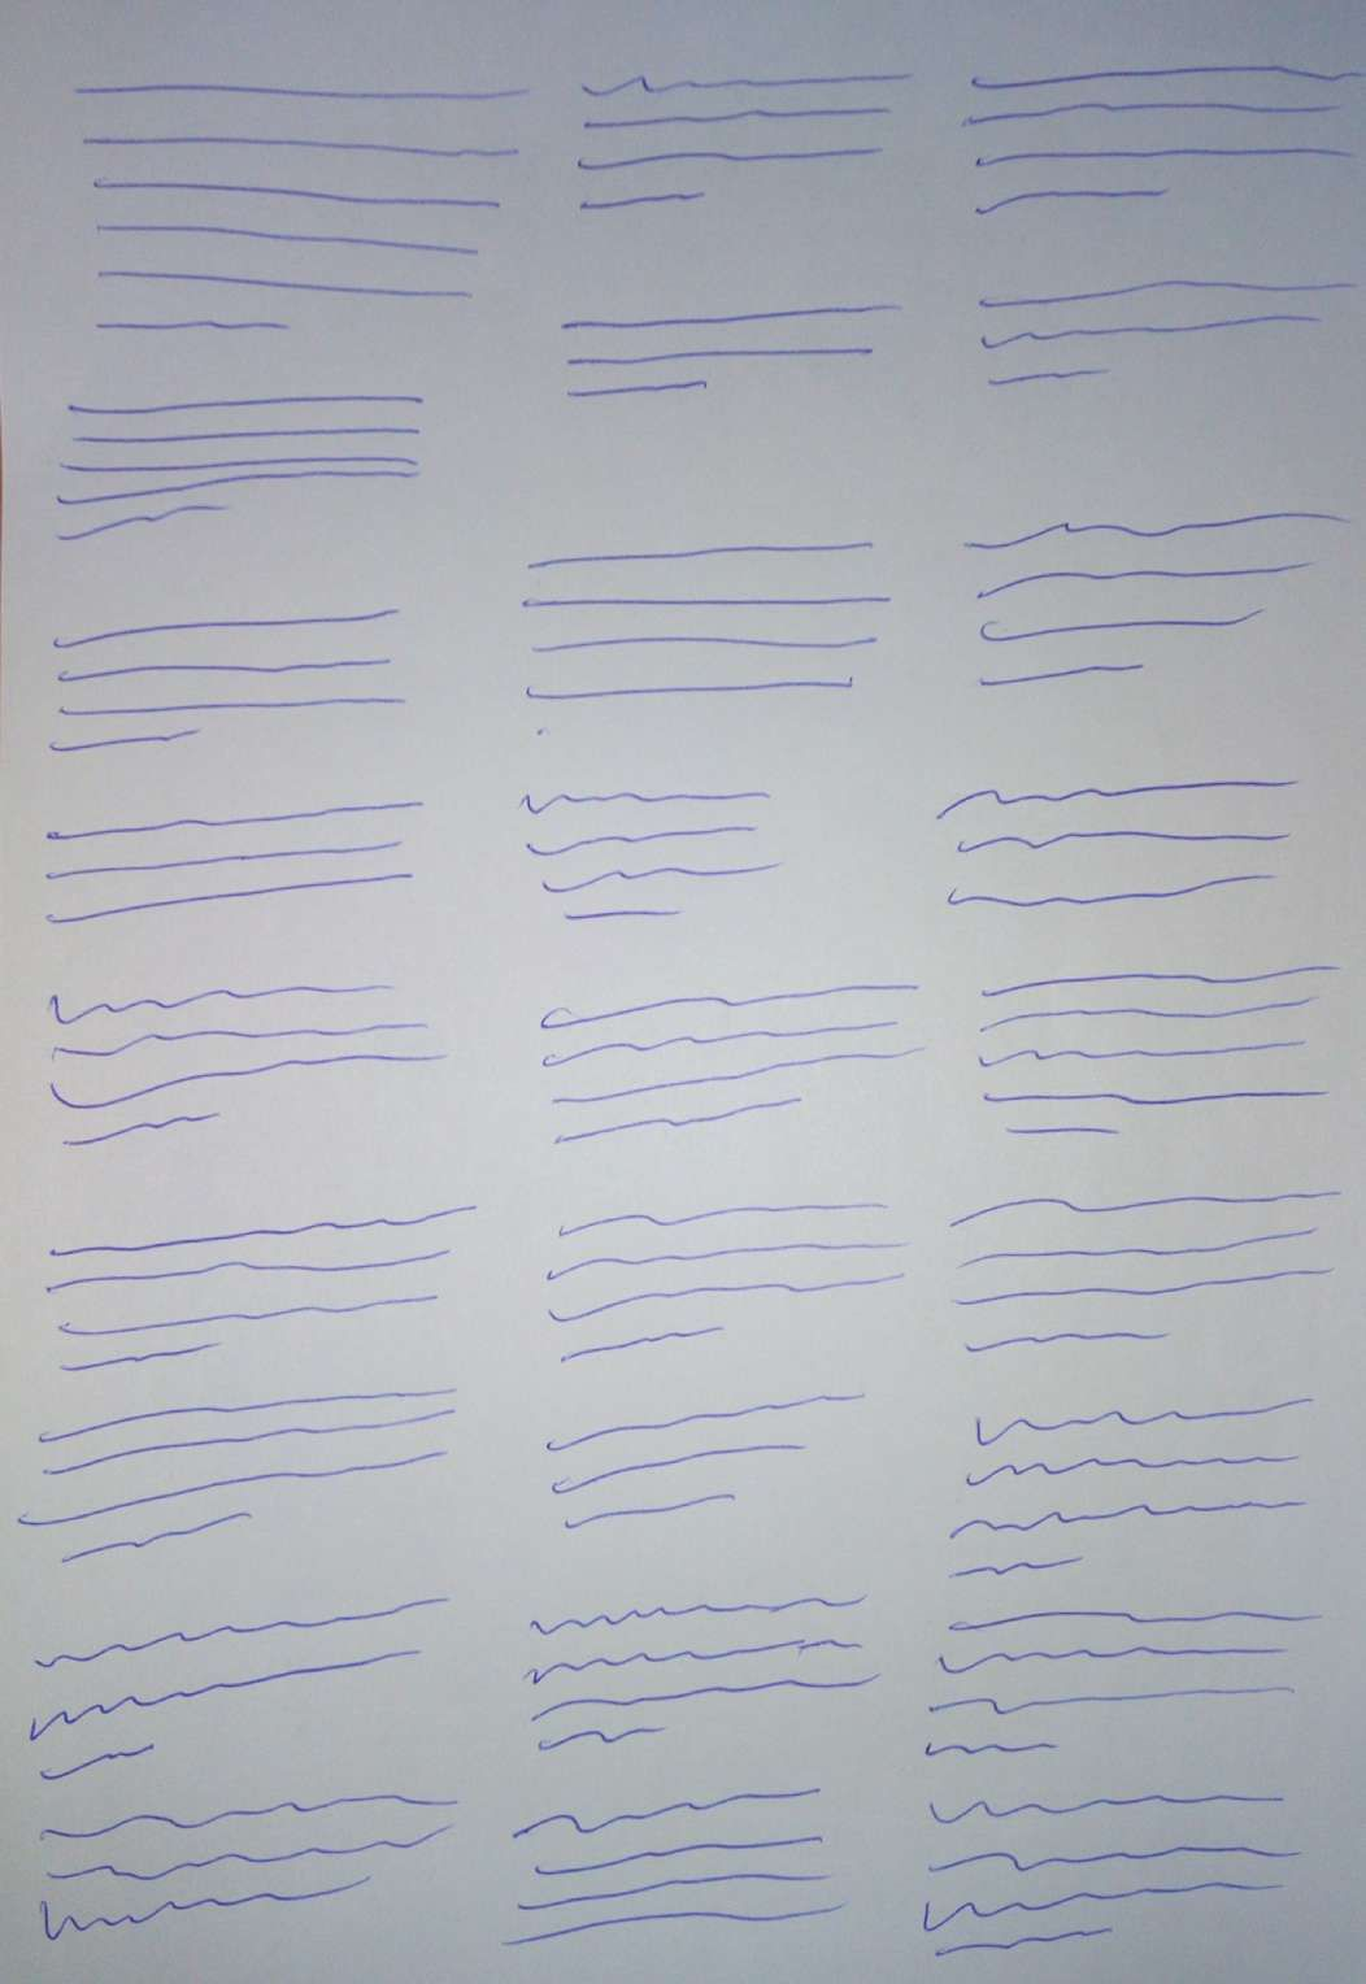Paragraph: (69, 80, 537, 333), (14, 1385, 464, 1565), (26, 1594, 449, 1780), (41, 1202, 482, 1376), (951, 507, 1355, 693), (956, 51, 1366, 223), (944, 1396, 1318, 1584), (47, 983, 452, 1153), (945, 1188, 1346, 1355), (534, 980, 930, 1149), (975, 960, 1342, 1140), (36, 1793, 464, 1945), (918, 1794, 1306, 1960), (519, 534, 897, 703), (920, 1606, 1331, 1759), (538, 1199, 911, 1367), (498, 1783, 850, 1952), (51, 390, 425, 547), (522, 1591, 881, 1753), (47, 605, 412, 757), (571, 63, 920, 217), (932, 772, 1307, 914), (39, 798, 427, 932), (541, 1390, 868, 1532), (971, 271, 1366, 387), (556, 300, 899, 406)
